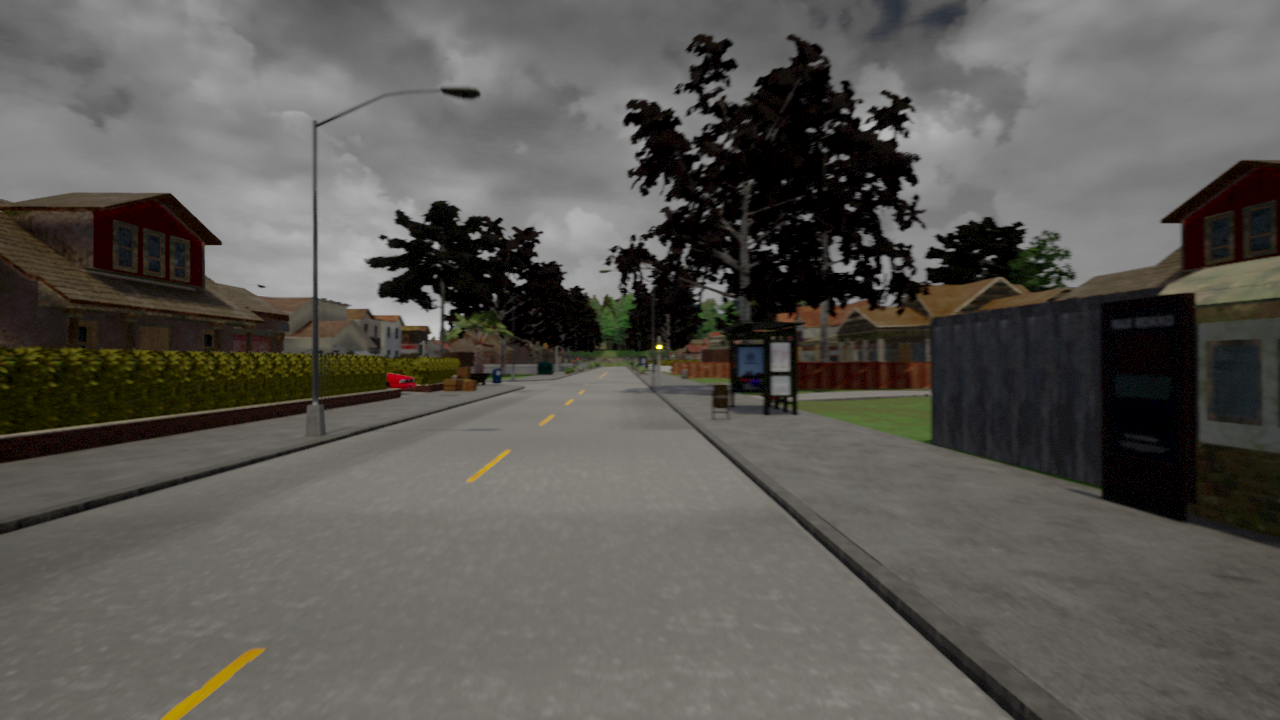yellow: (655, 340, 663, 355)
